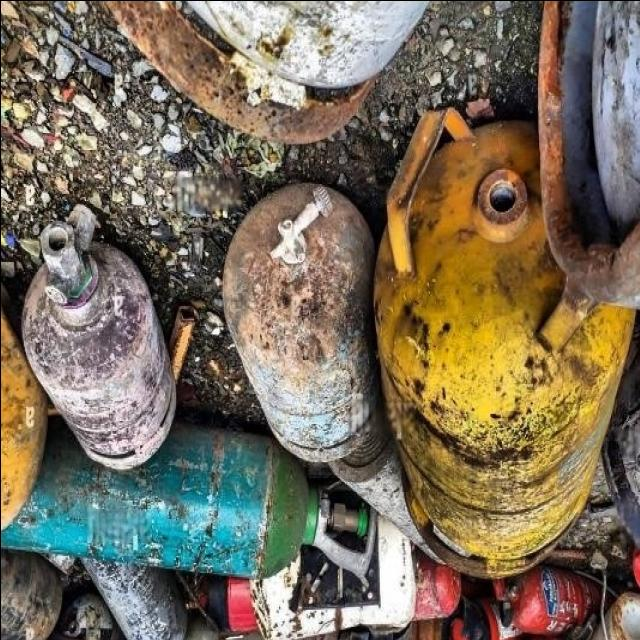cylinder: (372, 105, 635, 578), (1, 415, 377, 587), (222, 181, 383, 463), (21, 202, 175, 469)
